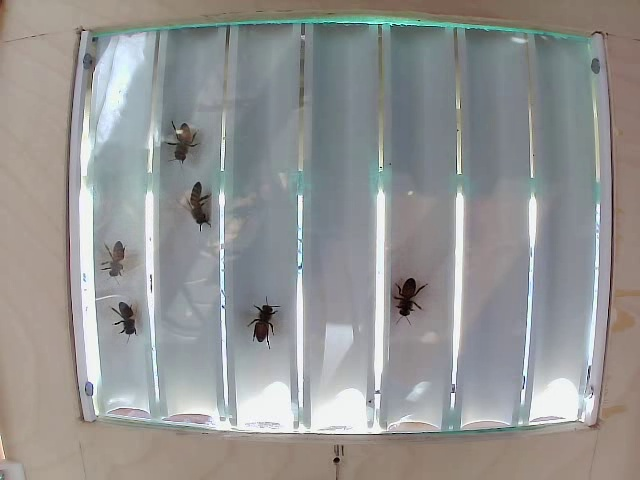bee: (166, 118, 211, 171), (176, 180, 222, 224), (391, 276, 427, 328), (96, 238, 137, 278), (107, 298, 146, 340), (254, 307, 286, 352)
